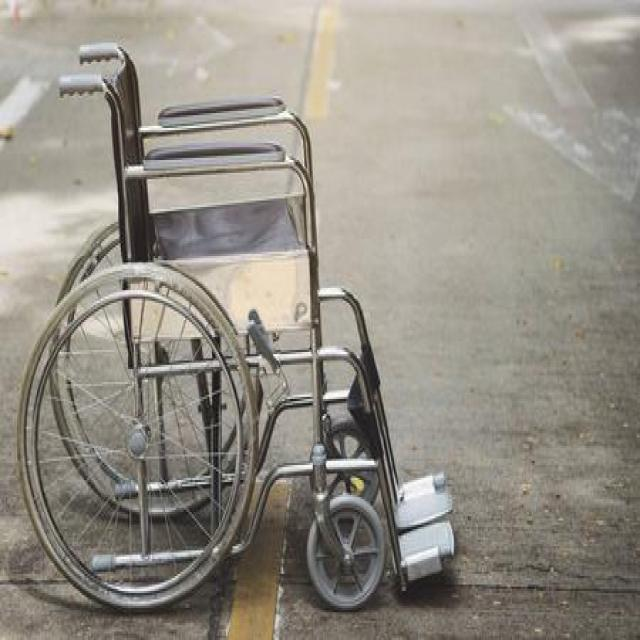wheelchairs: (8, 29, 461, 620)
